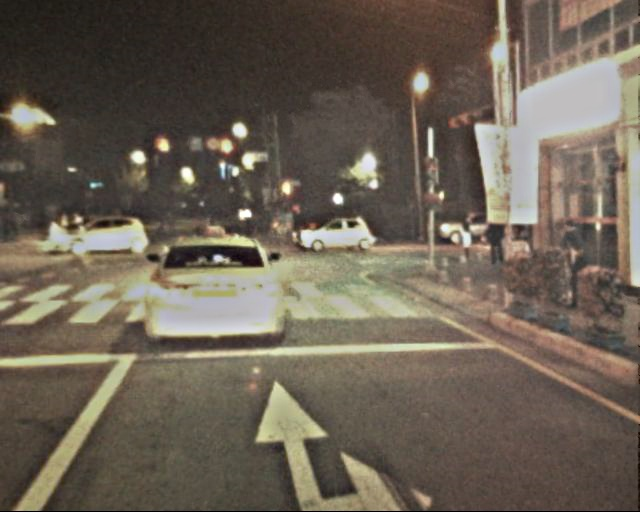person: (559, 216, 588, 301), (456, 219, 477, 268), (10, 205, 36, 239), (289, 209, 316, 234), (56, 201, 70, 237), (153, 209, 165, 239), (191, 210, 203, 240), (240, 211, 252, 241), (164, 208, 176, 237)
